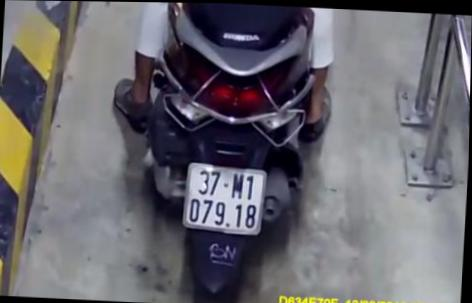LP: (181, 160, 268, 236)
